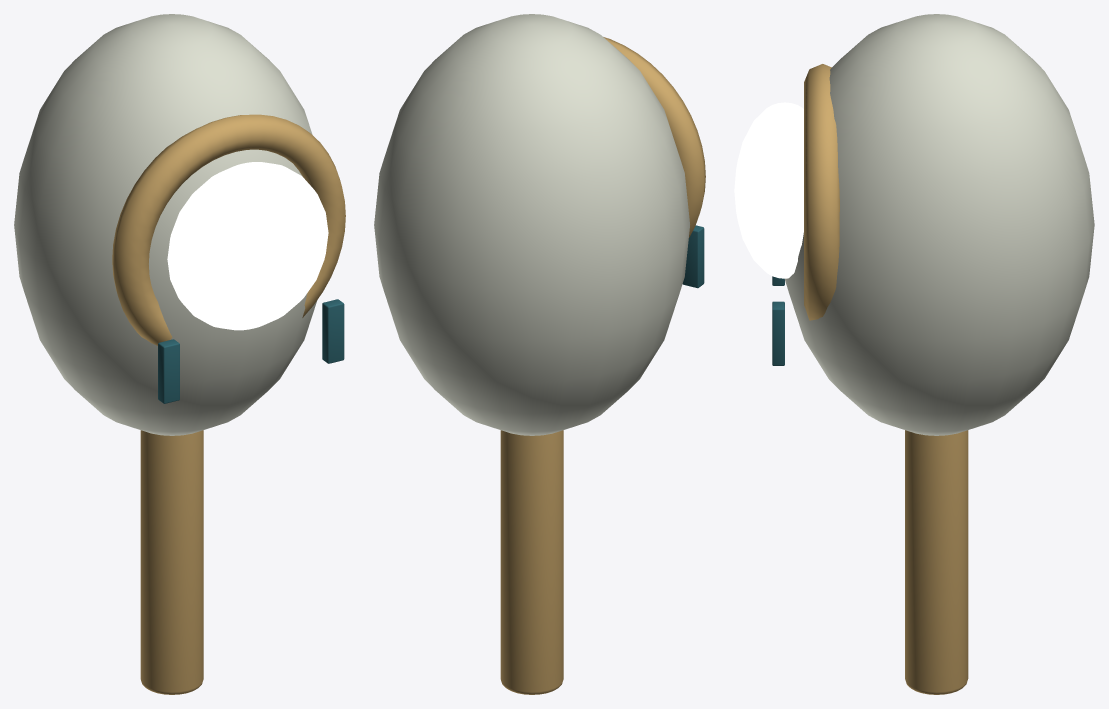
Rendered from buoy.glb.
3 renders of one model, left to right at view 1: azimuth 30°, elevation 25°; view 2: azimuth 150°, elevation 25°; view 3: azimuth 270°, elevation 25°, orthographic.
Parts seen in each view (by area): view 1: Ivory buoy body, Amber guide glass, Mooring stem, Brass light guard, Dark numbered notch.001, Dark numbered notch; view 2: Ivory buoy body, Mooring stem, Brass light guard, Dark numbered notch; view 3: Ivory buoy body, Mooring stem, Amber guide glass, Brass light guard, Dark numbered notch.001.
Boxes of the visible parts, <box> form: Ivory buoy body: <box>14,14,317,435</box>; Amber guide glass: <box>167,162,328,330</box>; Mooring stem: <box>140,430,203,694</box>; Brass light guard: <box>112,114,345,345</box>; Dark numbered notch.001: <box>322,299,344,363</box>; Dark numbered notch: <box>158,339,179,403</box>; Ivory buoy body: <box>374,14,689,435</box>; Mooring stem: <box>500,430,563,694</box>; Brass light guard: <box>603,37,705,238</box>; Dark numbered notch: <box>682,225,704,288</box>; Ivory buoy body: <box>784,14,1094,435</box>; Mooring stem: <box>905,430,968,694</box>; Amber guide glass: <box>734,102,803,278</box>; Brass light guard: <box>804,64,839,320</box>; Dark numbered notch.001: <box>772,301,784,365</box>.
Size of the model in its own units: 0.05 by 0.115 by 0.057.
